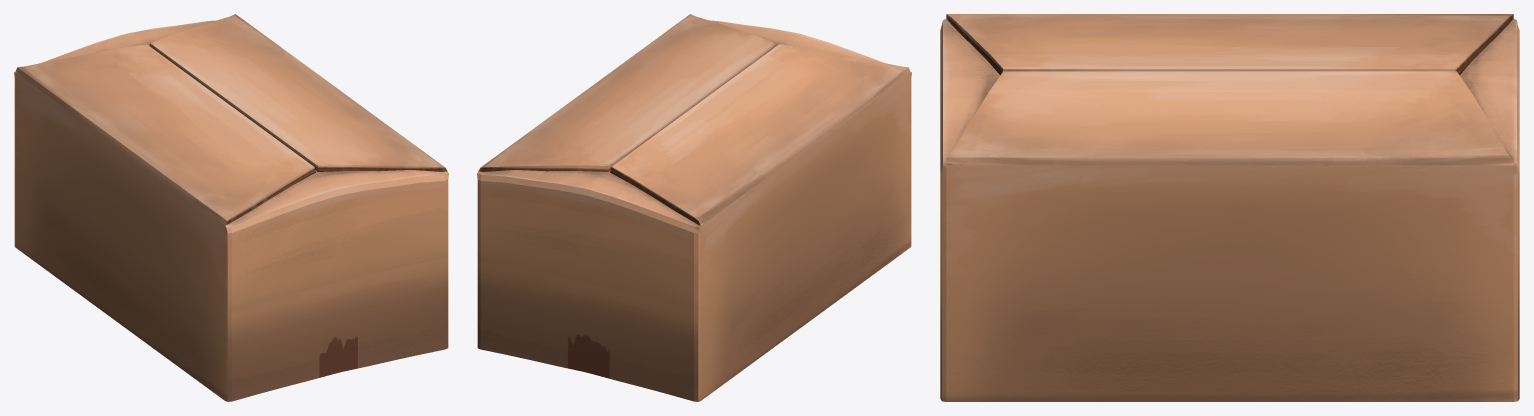
File: MDL_Box_04.fbx
The picture shows the model from 3 angles, left to right: view 1: azimuth 30°, elevation 25°; view 2: azimuth 150°, elevation 25°; view 3: azimuth 270°, elevation 25°; orthographic projection. The views are drawn at different scales.
Visible parts, largest first — view 1: MDL_Box_04; view 2: MDL_Box_04; view 3: MDL_Box_04.
Boxes of the visible parts, left/top/right/bottom form: MDL_Box_04: left=14, top=14, right=448, bottom=401; MDL_Box_04: left=477, top=14, right=911, bottom=401; MDL_Box_04: left=940, top=14, right=1519, bottom=401.
Bounding box in the file's own units: 27.62 × 22.75 × 46.08.
